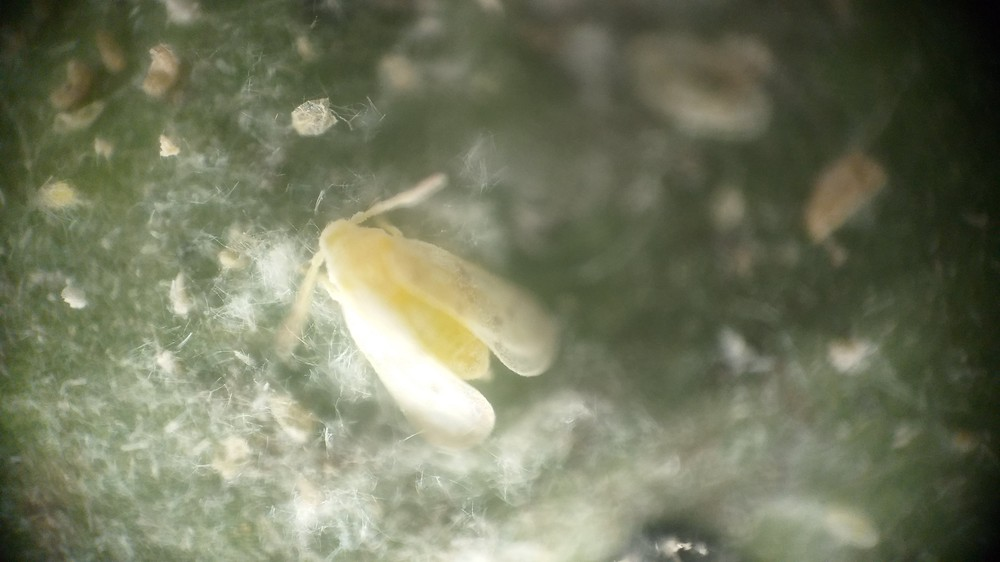Mosca Blanca: (256, 170, 577, 456)
